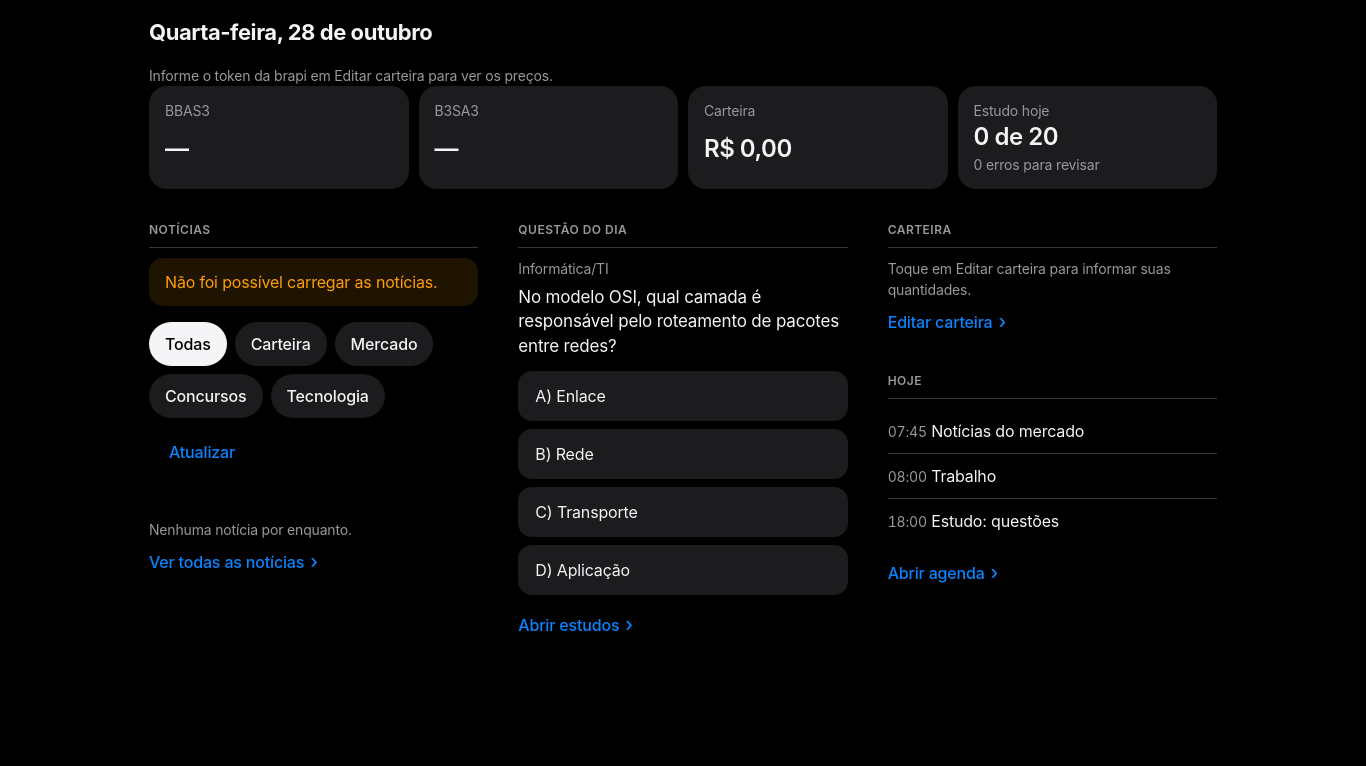
responder a questão do dia grava a tentativa e conta na meta
Check: the text "0 de 20" is shown, box left=974, top=122, right=1058, bottom=151
Click the button "A) Enlace". click: (581, 396)
box: left=518, top=371, right=848, bottom=421
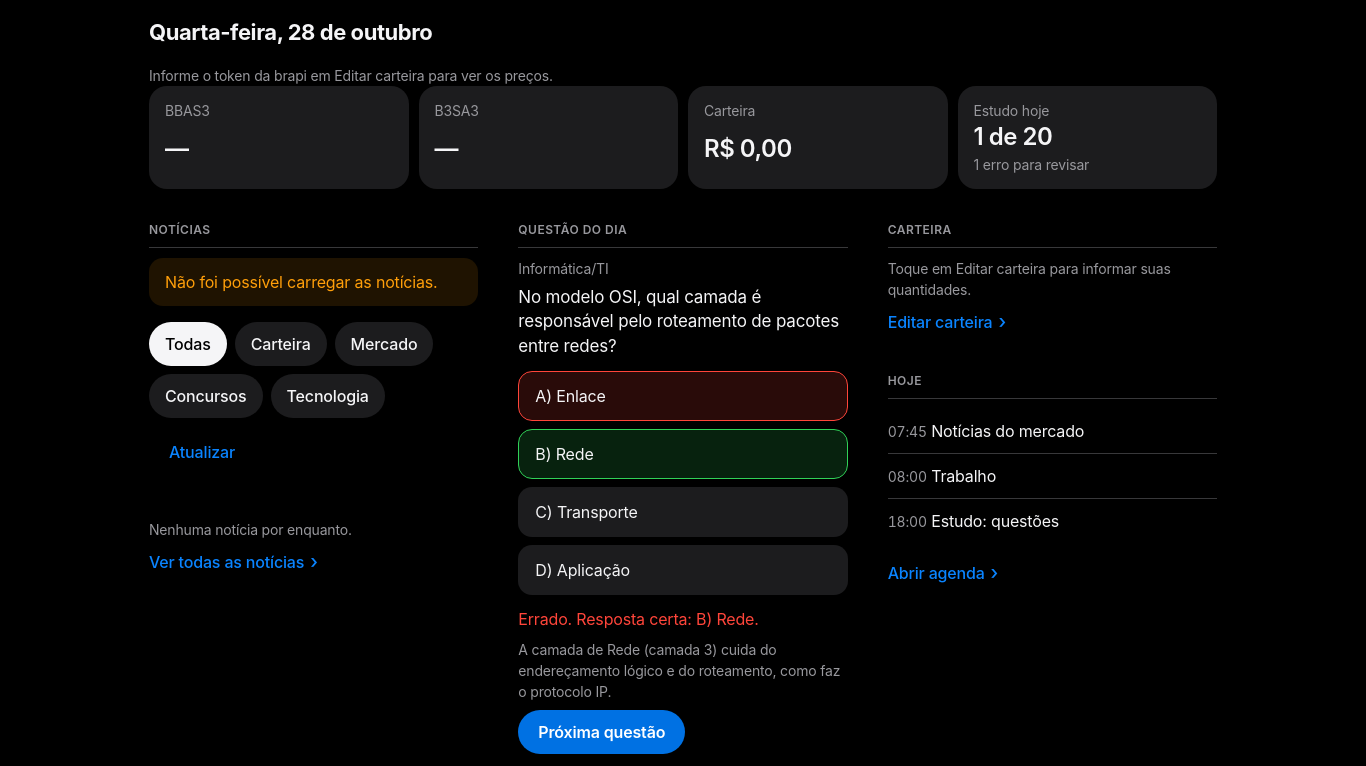
Check: the text "Errado. Resposta certa: B) Rede." is shown, box left=518, top=607, right=759, bottom=631
Check: the text "1 de 20" is shown, box left=974, top=122, right=1052, bottom=151
